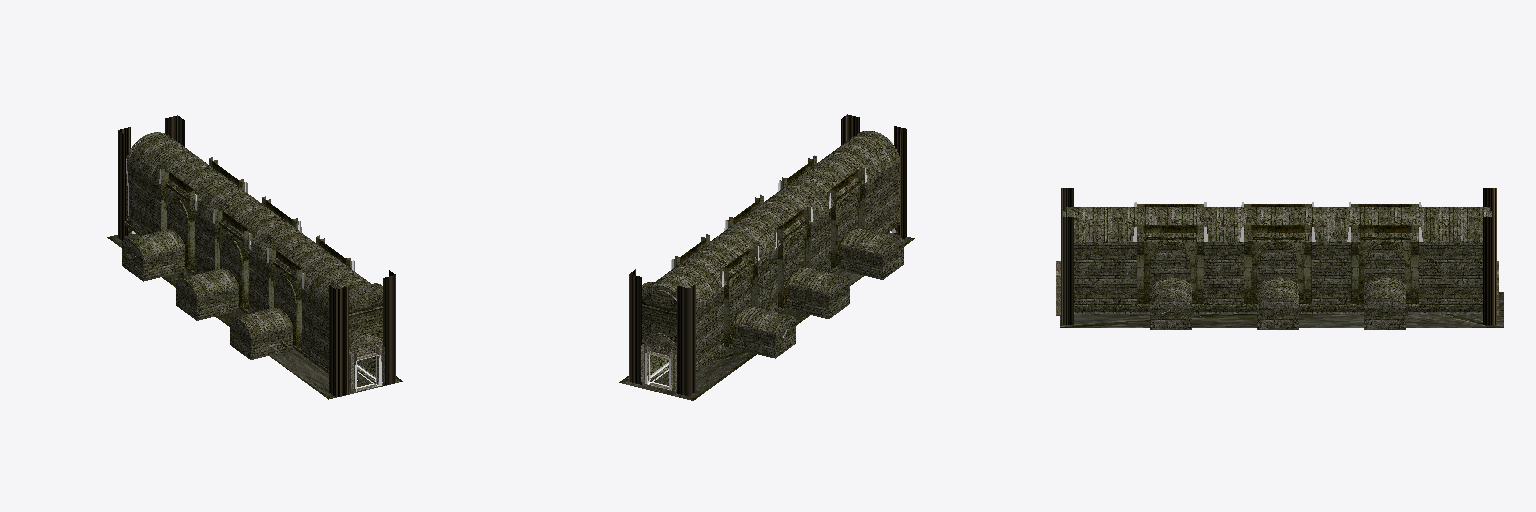
3 renders of one model, left to right at view 1: azimuth 30°, elevation 25°; view 2: azimuth 150°, elevation 25°; view 3: azimuth 270°, elevation 25°, orthographic.
Visible parts, largest first — view 1: mesh4, mesh0, mesh5, mesh14, mesh3, mesh10, mesh12; view 2: mesh4, mesh5, mesh0, mesh14, mesh3, mesh10, mesh12; view 3: mesh4, mesh5, mesh14, mesh0, mesh3.
Part boxes in pixels (x1,y1,x2,y2): mesh4: (122,132,382,376); mesh0: (118,115,395,396); mesh5: (161,157,351,348); mesh14: (107,234,402,399); mesh3: (128,228,382,375); mesh10: (127,254,384,392); mesh12: (126,141,382,391); mesh4: (642,131,903,374); mesh5: (674,156,864,346); mesh0: (629,114,906,395); mesh14: (619,232,914,400); mesh3: (642,226,897,374); mesh10: (641,329,789,390); mesh12: (645,155,895,390); mesh4: (1063,207,1491,329); mesh5: (1137,204,1418,306); mesh14: (1060,292,1503,327); mesh0: (1061,188,1496,324); mesh3: (1074,309,1482,311).
Size of the model in its own units: 9.23 by 6.6 by 24.76.
15 materials, 13 textured.